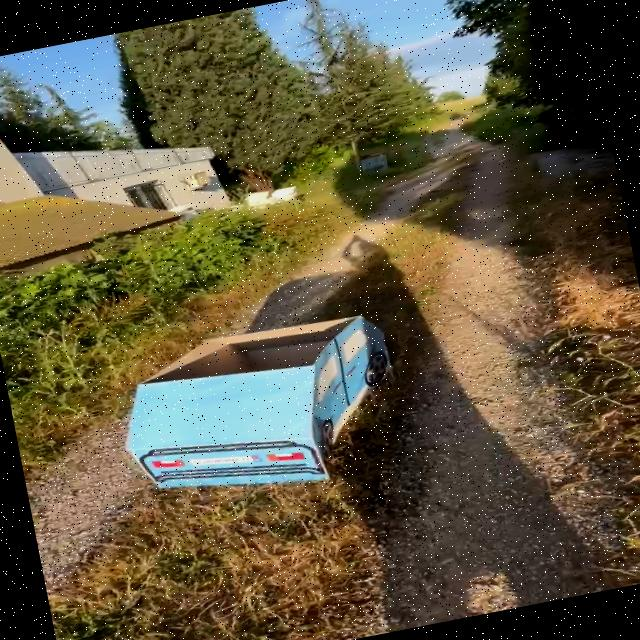blue_car: (73, 267, 477, 560)
